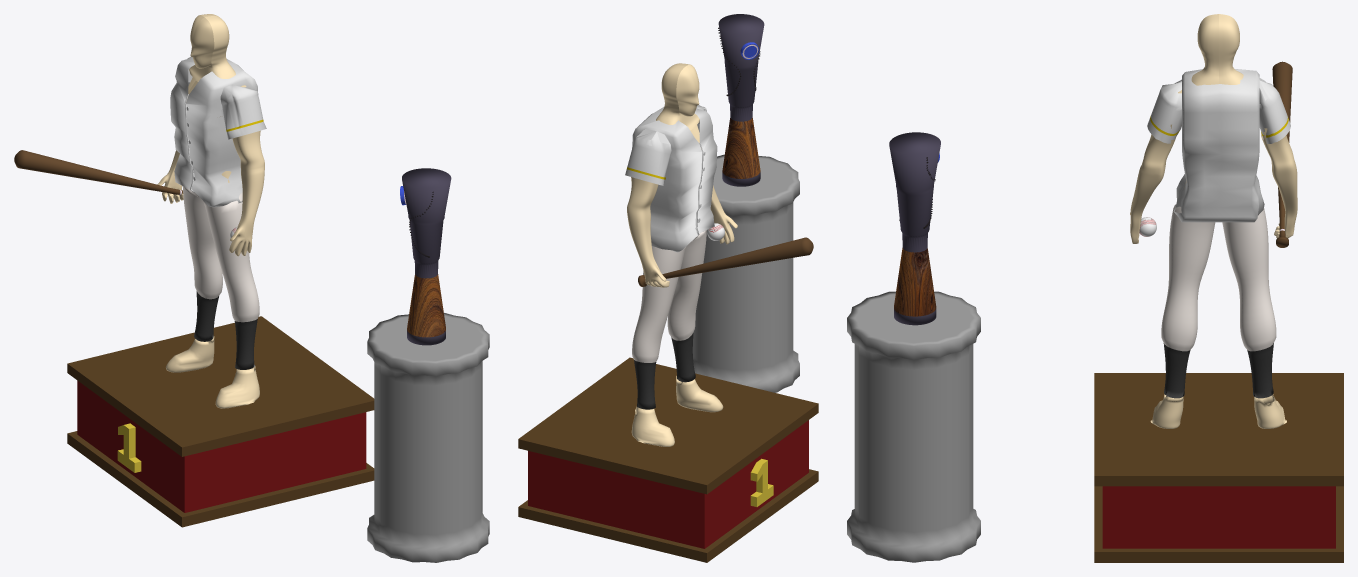
File: diorama.glb
3 views of the same model, side by side, from view 1: azimuth 30°, elevation 25°; view 2: azimuth 150°, elevation 25°; view 3: azimuth 270°, elevation 25° (orthographic). The views are drawn at different scales.
Visible parts, largest first — view 1: Cube.001, Cylinder.003, mirror, Cube, Cylinder, Cylinder.002; view 2: Cube.001, Cylinder.003, mirror, Cube, Cylinder, Cylinder.002; view 3: Cube.001, Cylinder.003, mirror, Cube, Cylinder, Cylinder.002.
Part boxes in pixels (bbox=[...]): Cube.001: bbox=[67, 316, 374, 527]; Cylinder.003: bbox=[367, 313, 489, 562]; mirror: bbox=[157, 14, 264, 408]; Cube: bbox=[170, 57, 266, 207]; Cylinder: bbox=[402, 168, 451, 345]; Cylinder.002: bbox=[14, 150, 183, 195]; Cube.001: bbox=[518, 357, 818, 562]; Cylinder.003: bbox=[692, 154, 799, 392]; mirror: bbox=[627, 63, 737, 446]; Cube: bbox=[625, 105, 717, 252]; Cylinder: bbox=[718, 14, 764, 186]; Cylinder.002: bbox=[638, 237, 813, 286]; Cube.001: bbox=[1094, 373, 1343, 562]; Cylinder.003: bbox=[847, 291, 980, 562]; mirror: bbox=[1130, 14, 1297, 428]; Cube: bbox=[1147, 69, 1290, 222]; Cylinder: bbox=[889, 132, 940, 325]; Cylinder.002: bbox=[1272, 61, 1292, 247].
Size of the model in its own units: 7.25 by 10.48 by 9.67.
Materials: 17 (2 with a texture image).
